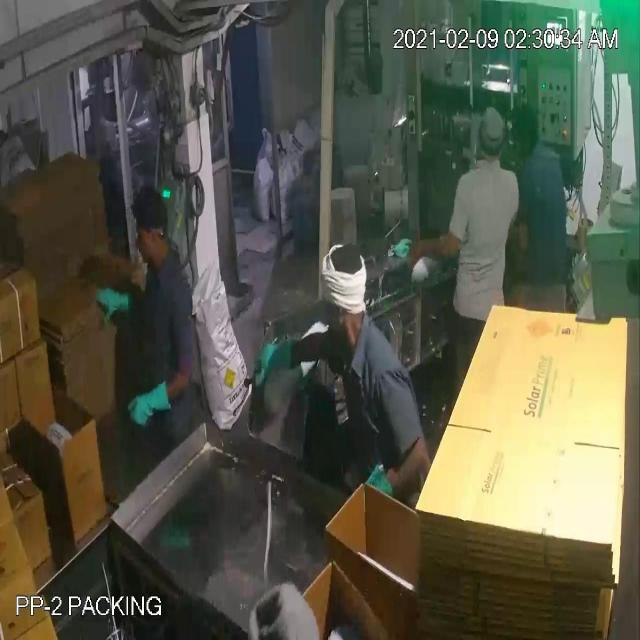Gloves: (52, 62, 429, 402)
